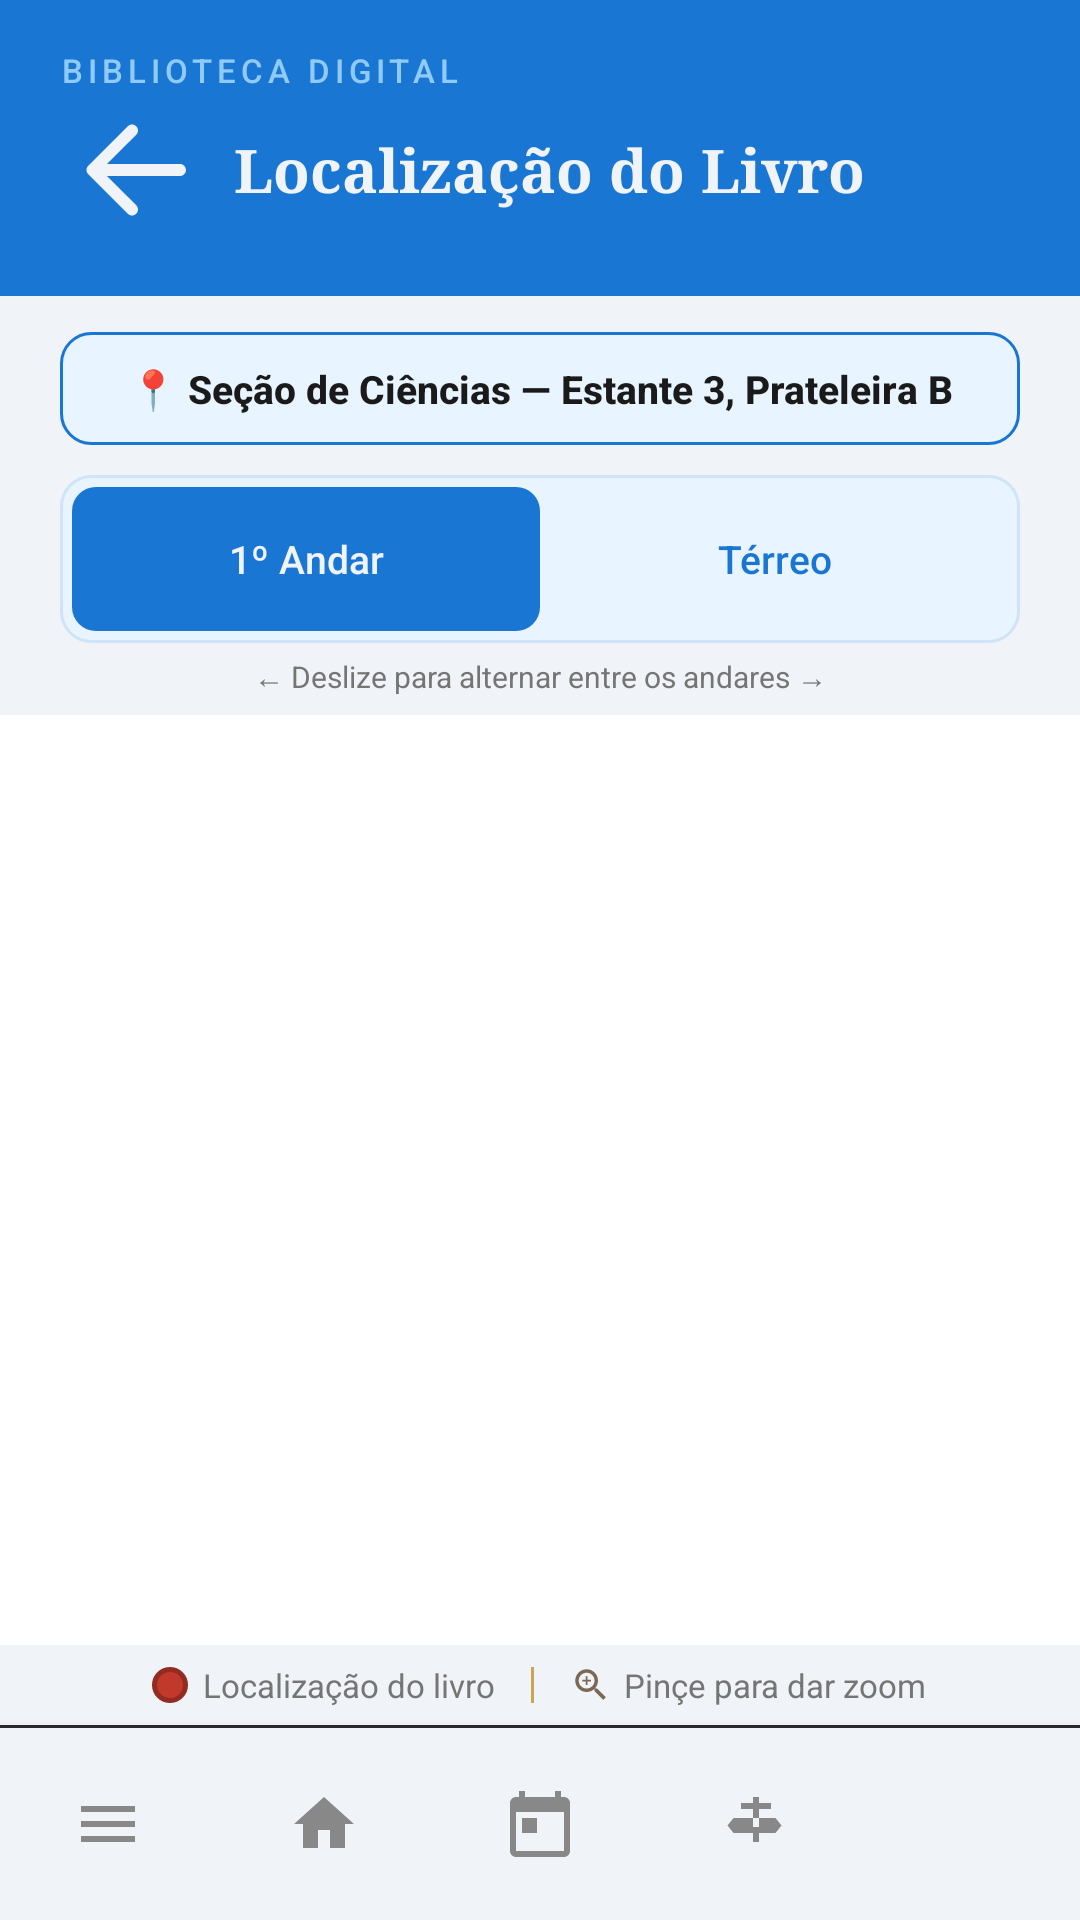

Icons on this 1080x1920 Android screen, each with the point to tap as (x=x, y=y):
Calendário: (x=540, y=1824)
Home: (x=324, y=1822)
Voltar: (x=136, y=170)
